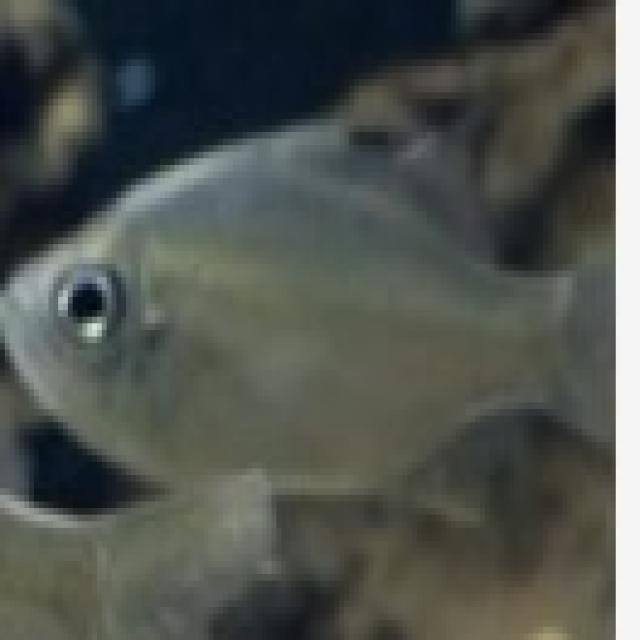Glass-Perchlet: (0, 9, 617, 584)
